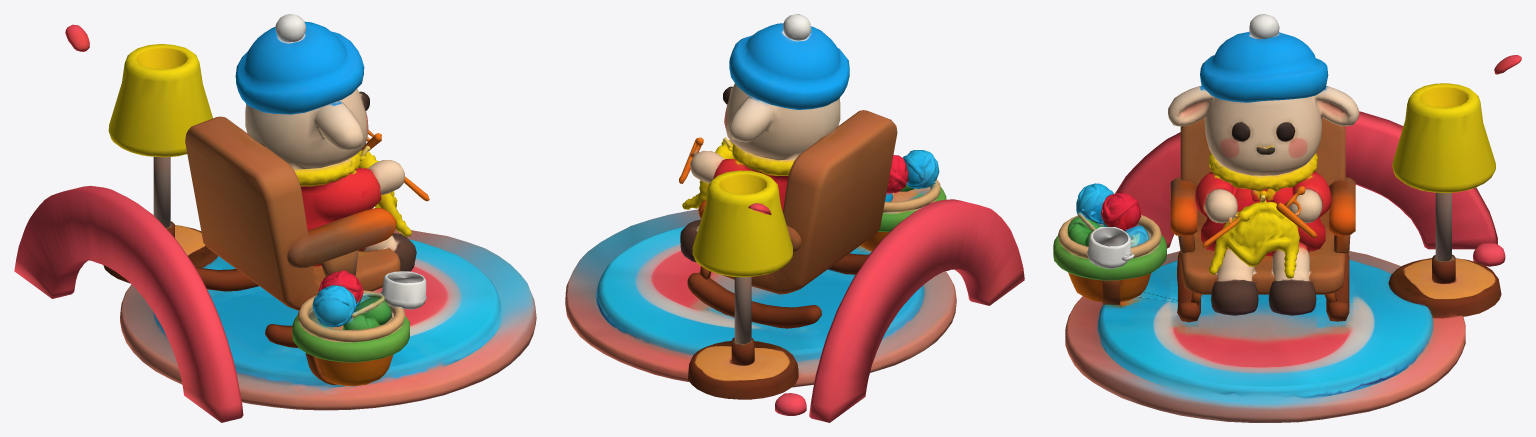
Rendered from SheepYarnKnitter_951f6406.glb.
3 views of the same model, side by side, from view 1: azimuth 30°, elevation 25°; view 2: azimuth 150°, elevation 25°; view 3: azimuth 270°, elevation 25° (orthographic). The views are drawn at different scales.
Visible parts, largest first — view 1: tripo_node_49c696ed-0cd1-4825-bd3c-f940951f6406; view 2: tripo_node_49c696ed-0cd1-4825-bd3c-f940951f6406; view 3: tripo_node_49c696ed-0cd1-4825-bd3c-f940951f6406.
Part boxes in pixels (x1,y1,x2,y2): tripo_node_49c696ed-0cd1-4825-bd3c-f940951f6406: (14,14,536,422); tripo_node_49c696ed-0cd1-4825-bd3c-f940951f6406: (565,14,1024,422); tripo_node_49c696ed-0cd1-4825-bd3c-f940951f6406: (1053,14,1521,422).
Size of the model in its own units: 0.8887 by 0.7207 by 0.998.
1 material, 1 textured.
